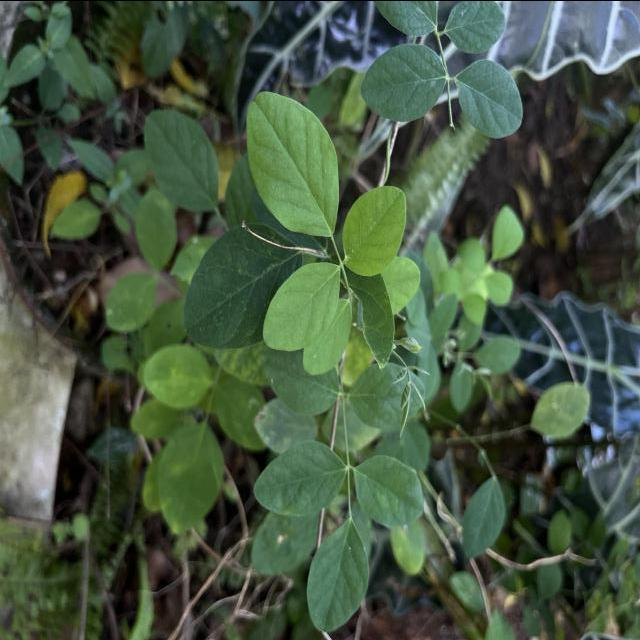Clitoria ternatea: (246, 89, 340, 237), (262, 260, 342, 351), (359, 42, 446, 122), (342, 184, 408, 277), (454, 58, 524, 138)
